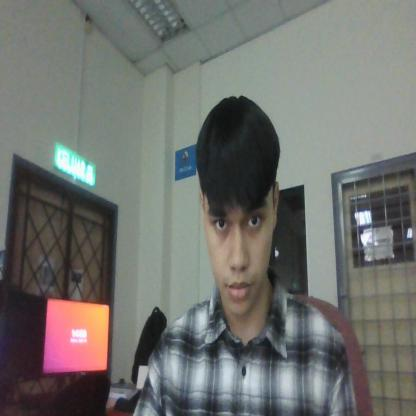Open-Eyes: (209, 201, 271, 242)
